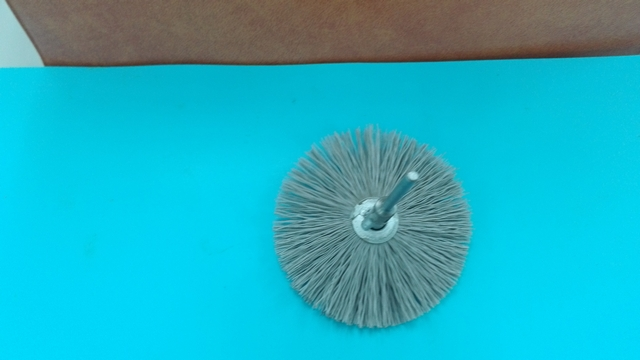TOOL: (233, 123, 515, 347)
